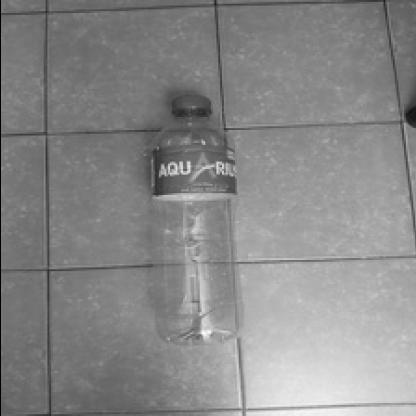plastic_bottles: (145, 87, 242, 351)
